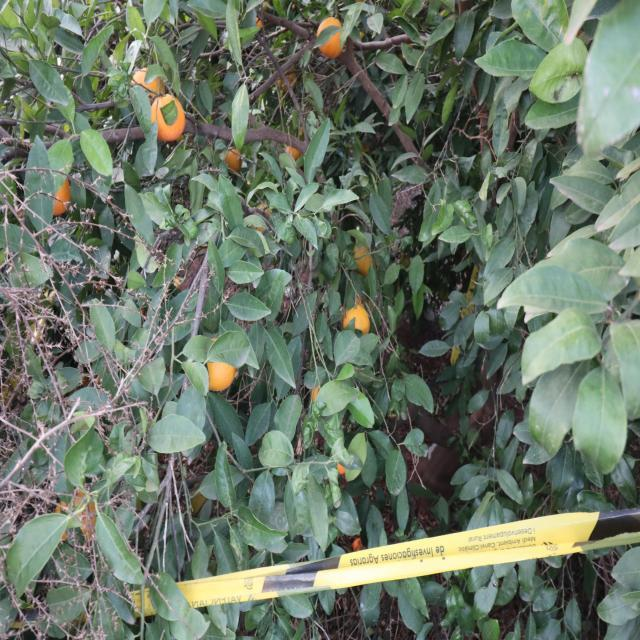Jeruk Sudah Matang: (151, 93, 188, 143), (318, 20, 350, 60), (206, 360, 236, 390), (51, 177, 74, 216), (344, 304, 372, 333), (134, 68, 163, 95), (281, 135, 303, 166), (352, 246, 372, 274), (224, 147, 243, 173), (190, 491, 209, 515)
